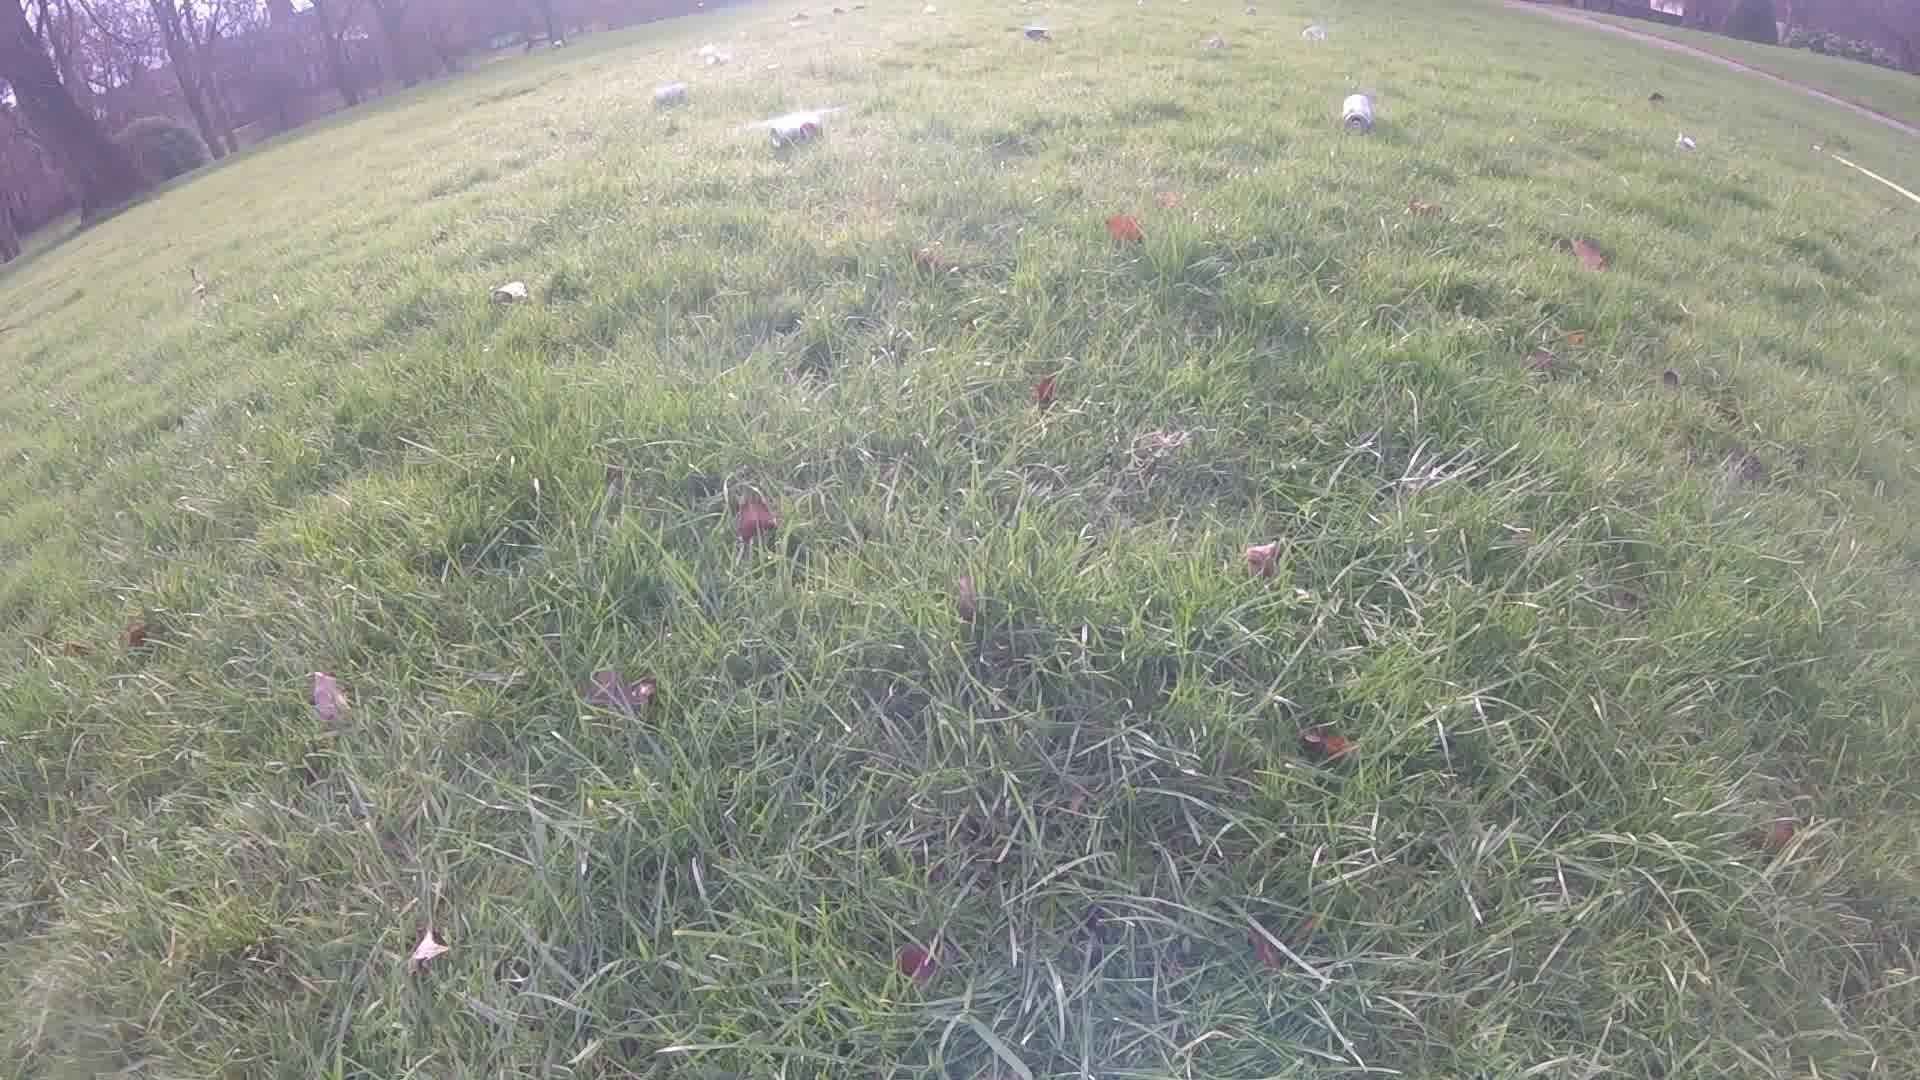litter: (765, 113, 827, 152), (1340, 94, 1375, 136), (647, 84, 690, 113), (1298, 24, 1329, 47), (698, 45, 732, 66), (1023, 26, 1055, 47), (1204, 32, 1226, 58), (1675, 135, 1702, 152), (1646, 92, 1676, 105), (786, 11, 811, 26), (915, 3, 944, 16), (827, 7, 872, 15), (1236, 5, 1262, 18)
